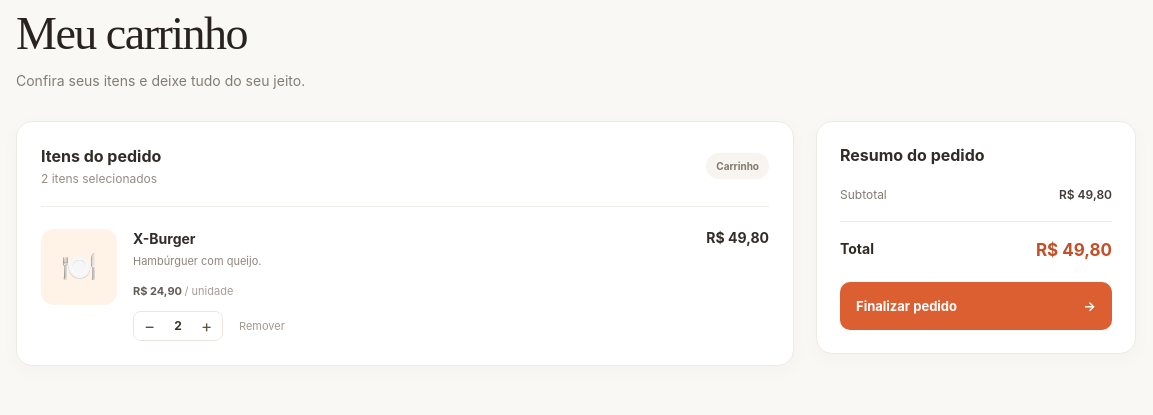
Test case: Carrinho › preserva o carrinho e mostra o erro se a API rejeitar o pedido
Click the button "Finalizar pedido →": (907, 306) [840,282,1112,330]
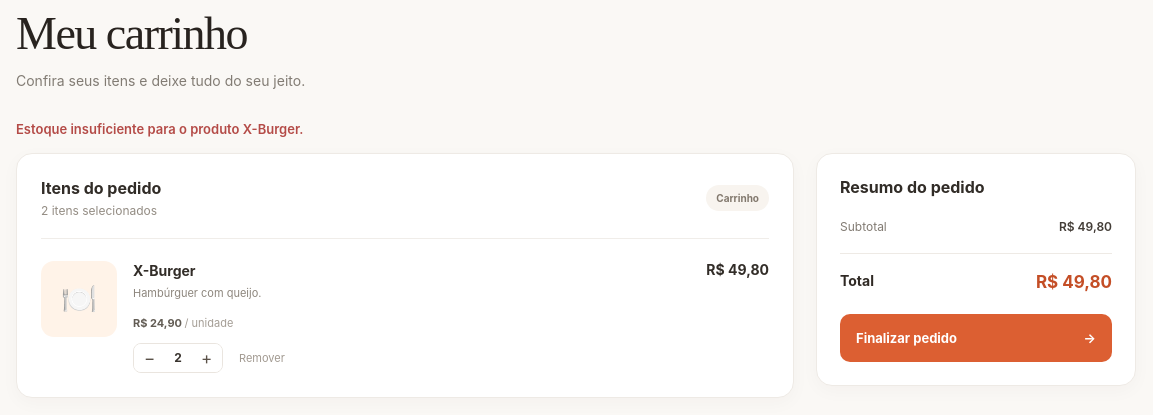
Now the message reads "Estoque insuficiente para o produto X-Burger.", box [16,121,303,137]
